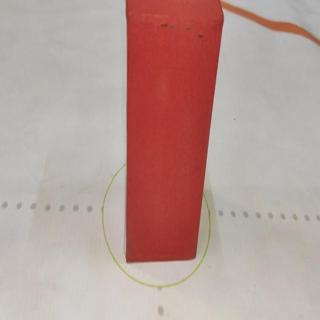redbox: (123, 0, 225, 262)
